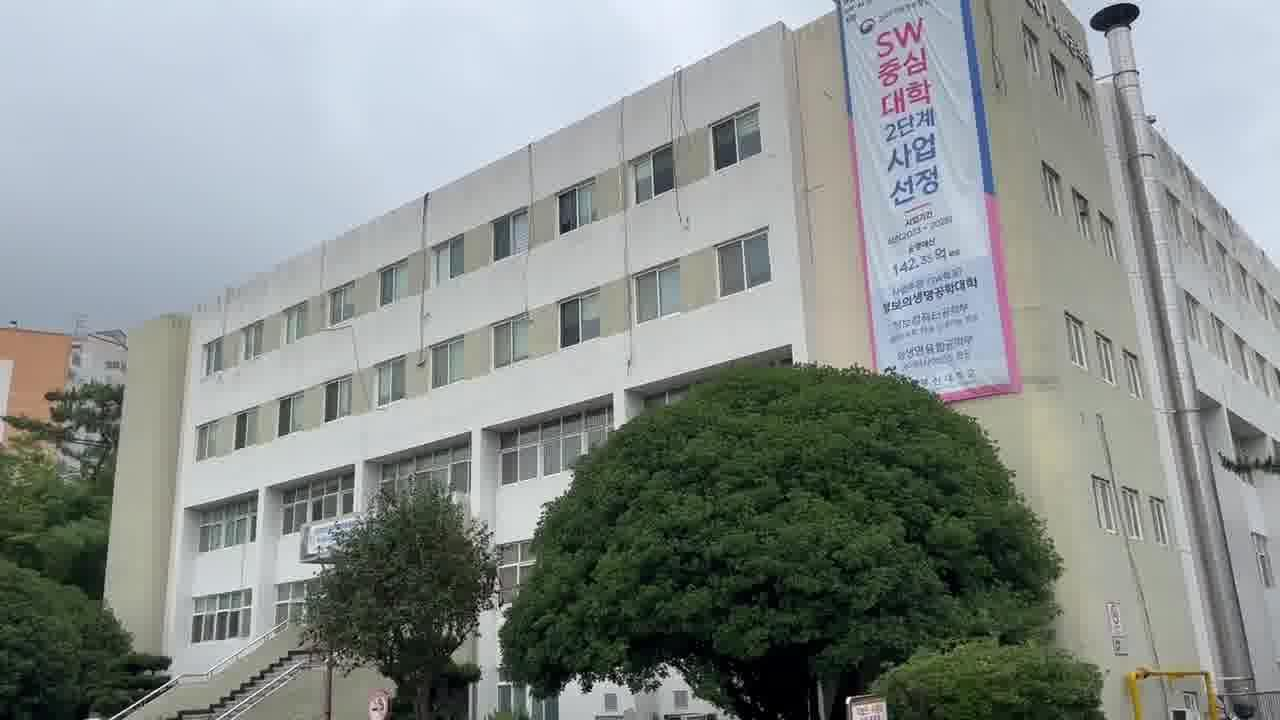building: (96, 41, 791, 383)
